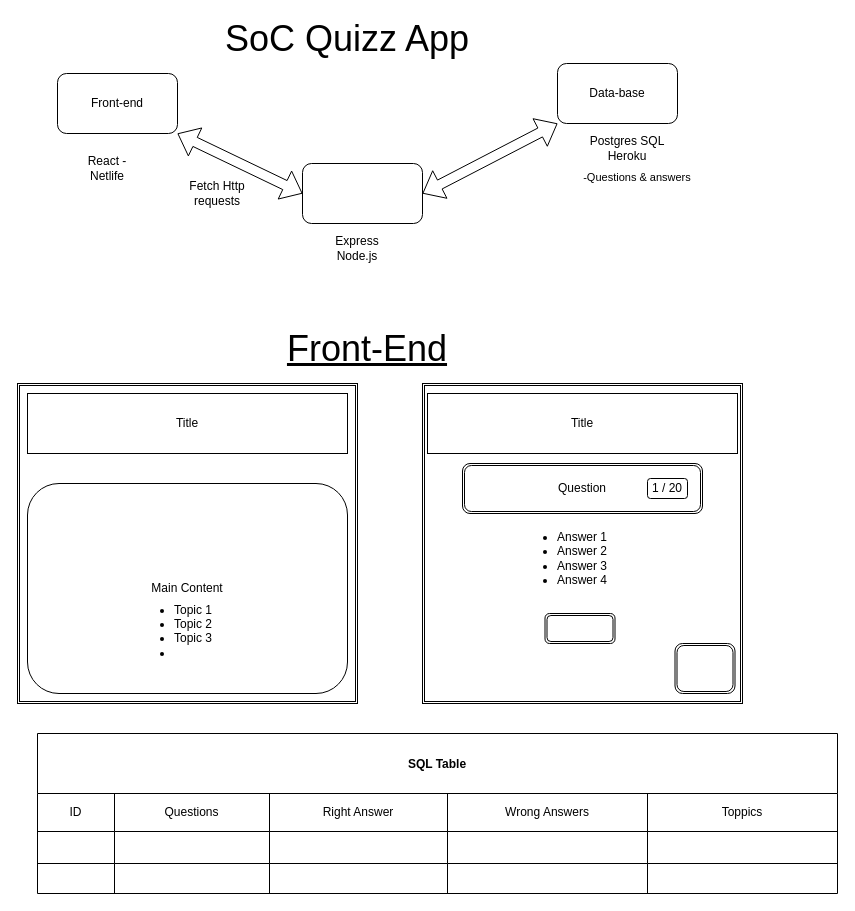
The diagram is 855 pixels wide and 911 high, and some of its shapes have lost their labels. The centre of each missing label's shape, as x and y in pixels:
API rest: point 362,193
Next Question: point 704,668
Submit: point 579,628
